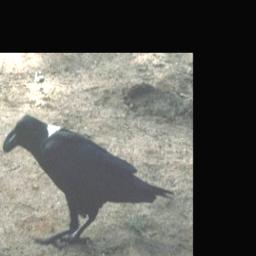Crow: (2, 112, 177, 249)
